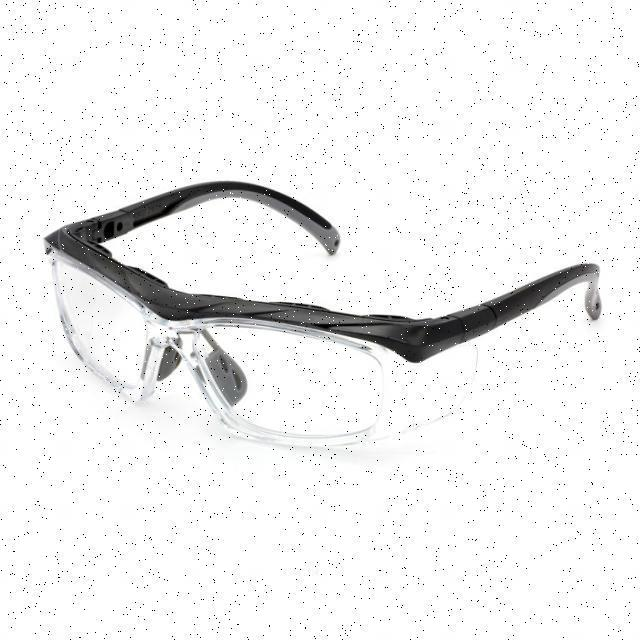goggles_on: (29, 175, 609, 458)
